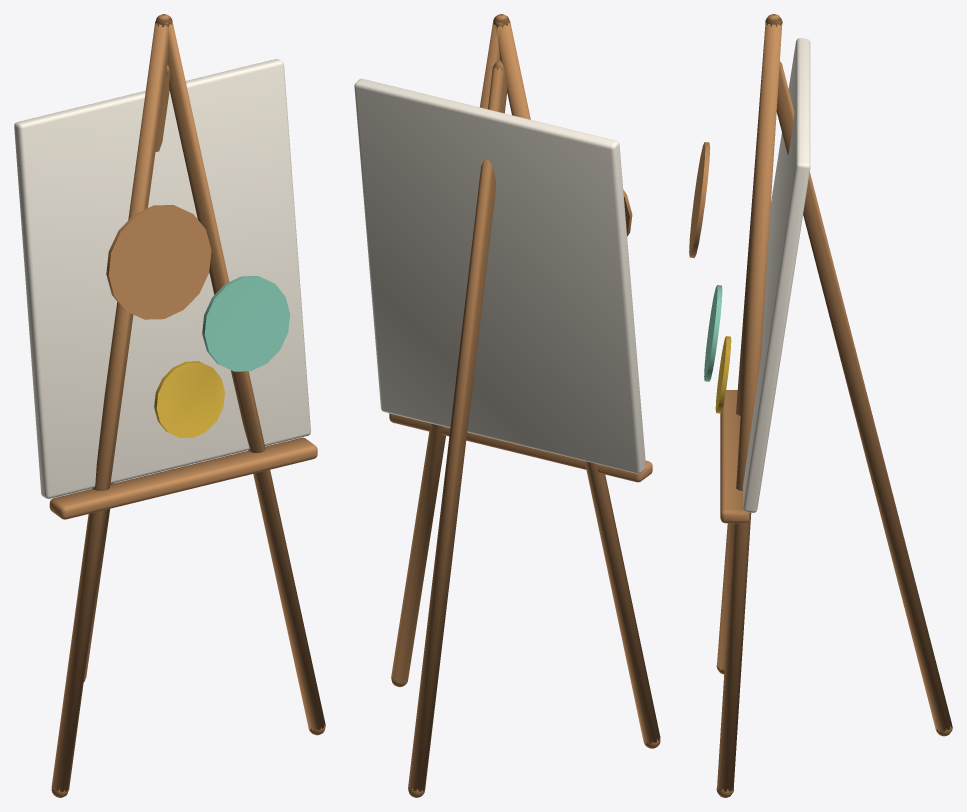
Rendered from gift-mira.glb.
3 renders of one model, left to right at view 1: azimuth 30°, elevation 25°; view 2: azimuth 150°, elevation 25°; view 3: azimuth 270°, elevation 25°, orthographic.
Parts seen in each view (by area): view 1: gift-mira; view 2: gift-mira; view 3: gift-mira.
Boxes of the visible parts, x1,y1,x2,y2 form: gift-mira: [14, 14, 325, 797]; gift-mira: [354, 14, 660, 797]; gift-mira: [689, 14, 952, 797].
Size of the model in its own units: 0.6354 by 1.64 by 0.5424.
